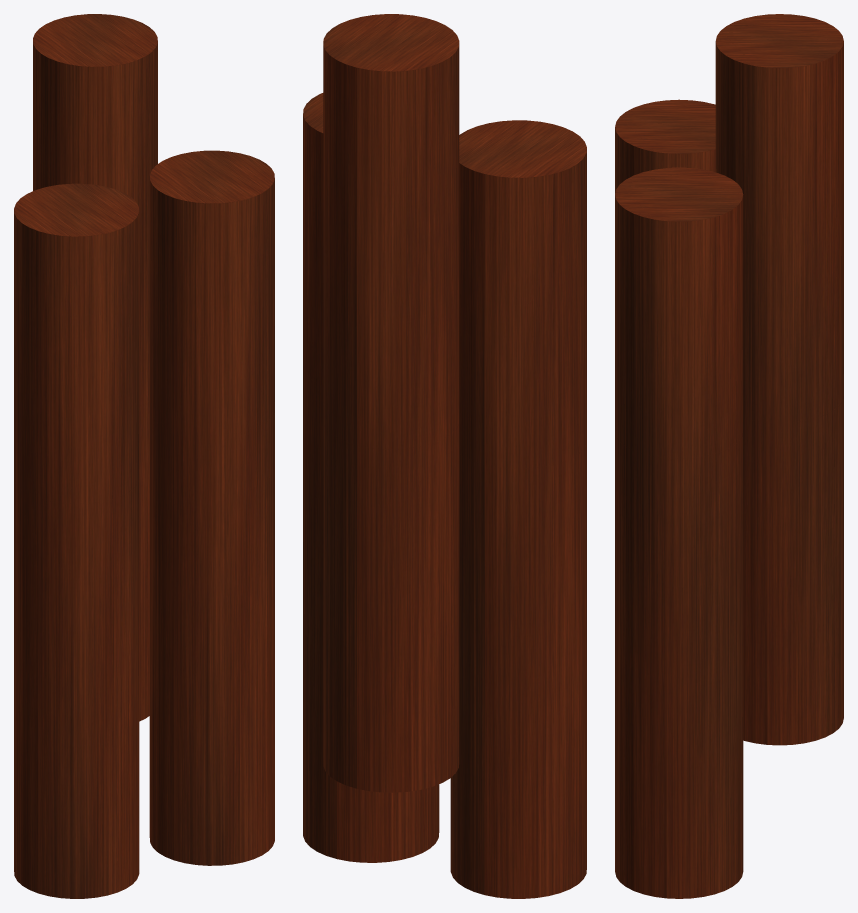
The model's file is cylinder.003_lev3.glb.
3 renders of one model, left to right at view 1: azimuth 30°, elevation 25°; view 2: azimuth 150°, elevation 25°; view 3: azimuth 270°, elevation 25°, orthographic. The views are drawn at different scales.
Parts seen in each view (by area): view 1: cylinder.003_lev3; view 2: cylinder.003_lev3; view 3: cylinder.003_lev3.
Part boxes in pixels (left/top/right/bottom): cylinder.003_lev3: left=14, top=14, right=274, bottom=898; cylinder.003_lev3: left=303, top=14, right=586, bottom=898; cylinder.003_lev3: left=615, top=14, right=843, bottom=898.
Size of the model in its own units: 0.4823 by 1.47 by 0.3826.
Materials: 1 (1 with a texture image).
